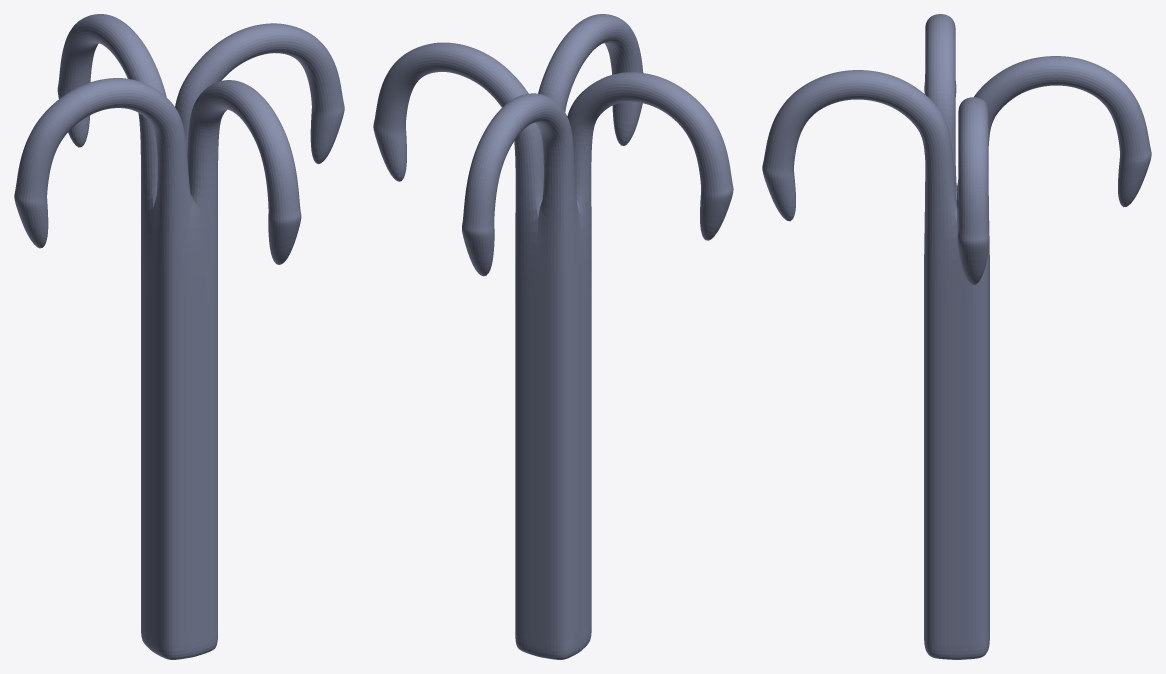
The model's file is hook.glb.
3 views of the same model, side by side, from view 1: azimuth 30°, elevation 25°; view 2: azimuth 150°, elevation 25°; view 3: azimuth 270°, elevation 25° (orthographic).
Parts seen in each view (by area): view 1: Cube; view 2: Cube; view 3: Cube.
Boxes of the visible parts, bbox=[...] form: Cube: bbox=[14, 14, 344, 659]; Cube: bbox=[373, 14, 733, 659]; Cube: bbox=[762, 14, 1151, 659].
Bounding box in the file's own units: 11.77 × 19.53 × 11.77.
